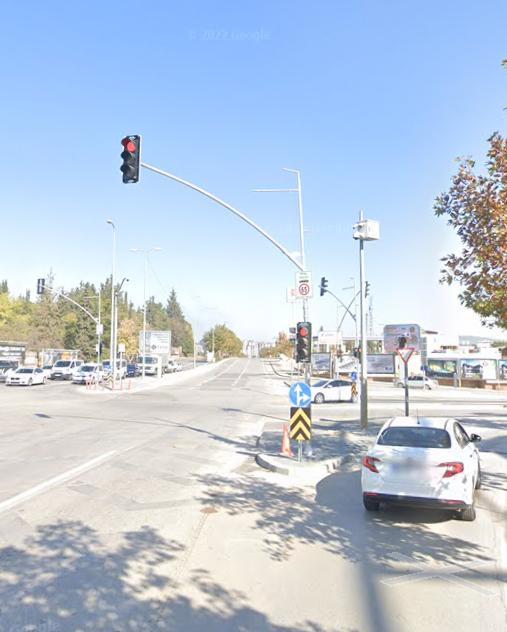redlight: (122, 134, 141, 184), (295, 321, 312, 362)
